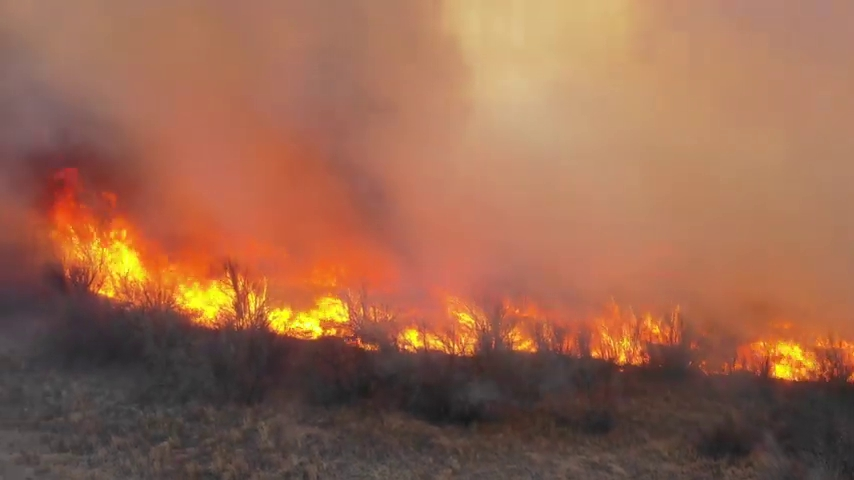forest_fire: (249, 278, 853, 380), (49, 167, 243, 324), (322, 278, 336, 285)
